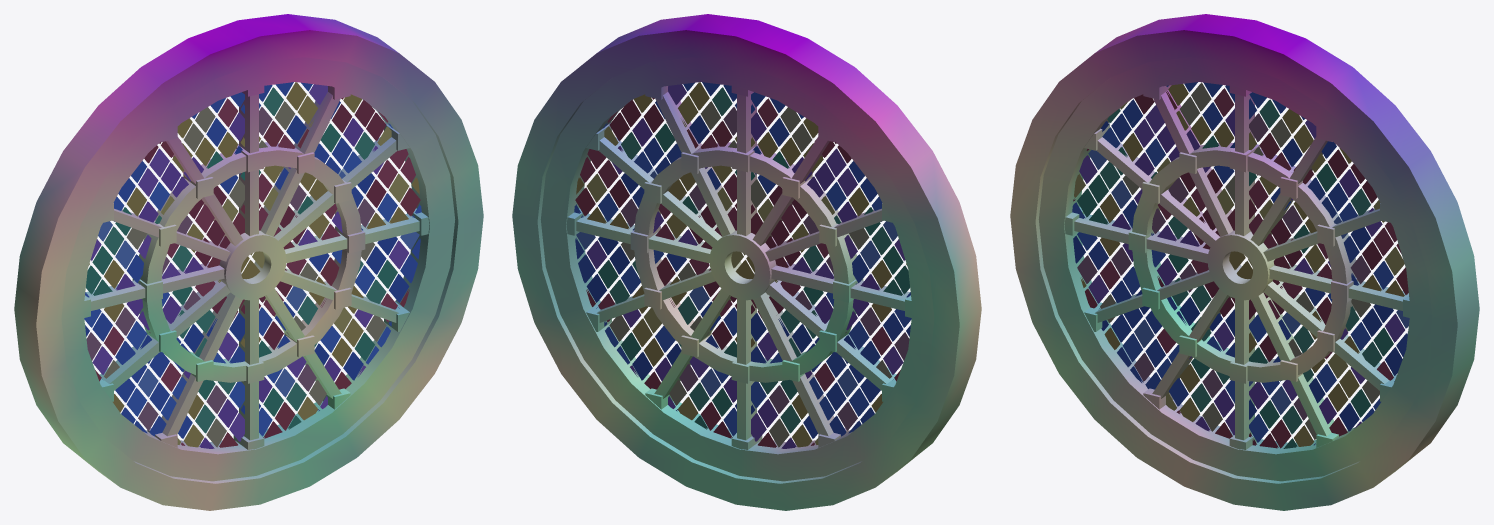
The model's file is rose_window.glb.
3 renders of one model, left to right at view 1: azimuth 30°, elevation 25°; view 2: azimuth 150°, elevation 25°; view 3: azimuth 330°, elevation 25°, orthographic.
Parts seen in each view (by area): view 1: rose_tracery, rose_glass; view 2: rose_tracery, rose_glass; view 3: rose_tracery, rose_glass.
Boxes of the visible parts, x1,y1,x2,y2 form: rose_tracery: [14, 14, 483, 510]; rose_glass: [84, 82, 421, 448]; rose_tracery: [512, 14, 981, 510]; rose_glass: [574, 82, 911, 448]; rose_tracery: [1010, 14, 1479, 510]; rose_glass: [1072, 82, 1409, 448].
Bounding box in the file's own units: 4.71 × 4.71 × 0.4.
